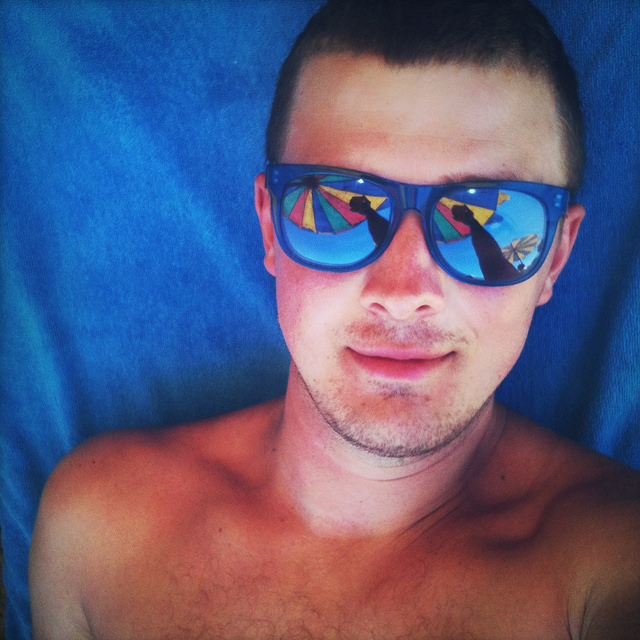sunglasses: (274, 165, 548, 285)
